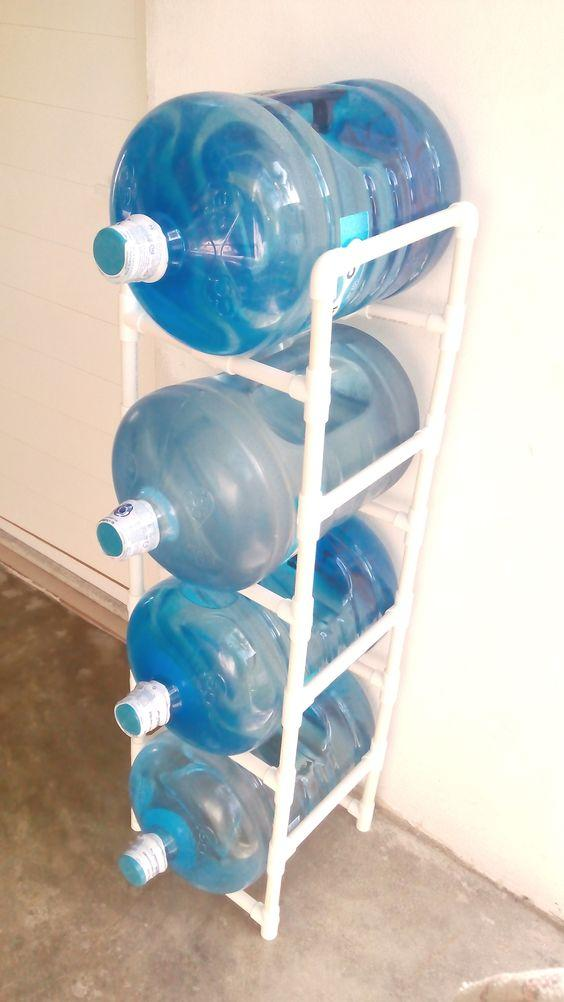PVC: (354, 197, 490, 877), (257, 240, 347, 950), (116, 292, 333, 425), (296, 410, 464, 553), (302, 198, 484, 311), (281, 588, 417, 728), (265, 734, 391, 880)
